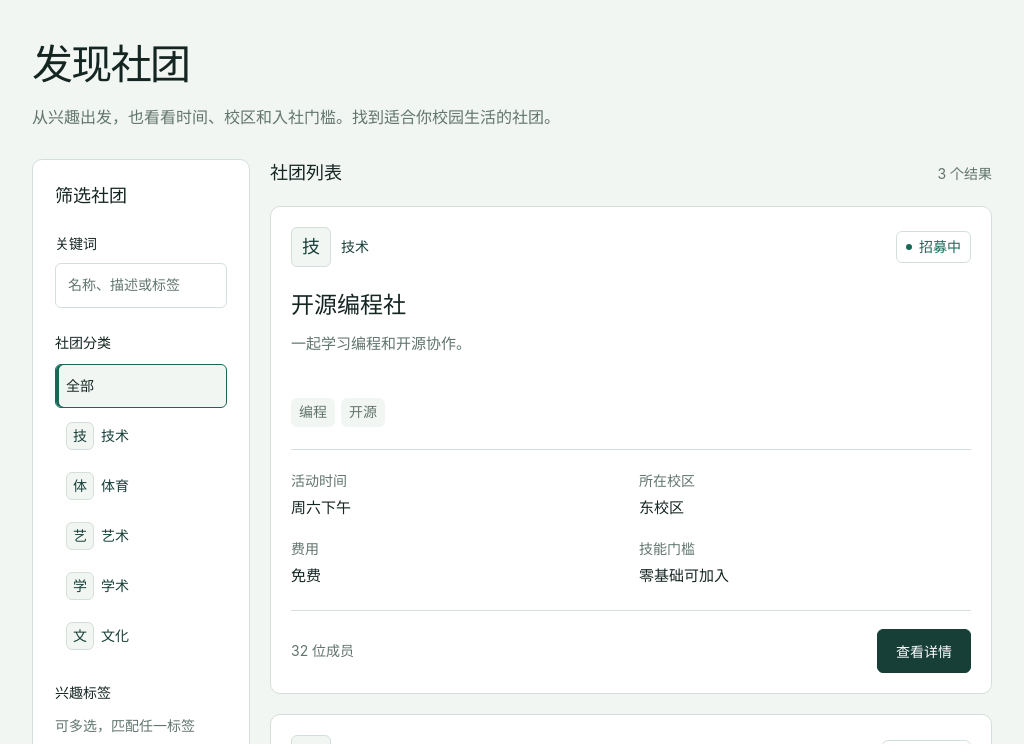
Test: Clubs discovery › labels keyword search and announces the active query and result count
In the search field labelled "关键词": (141, 286) [55,263,227,308], type "编程"
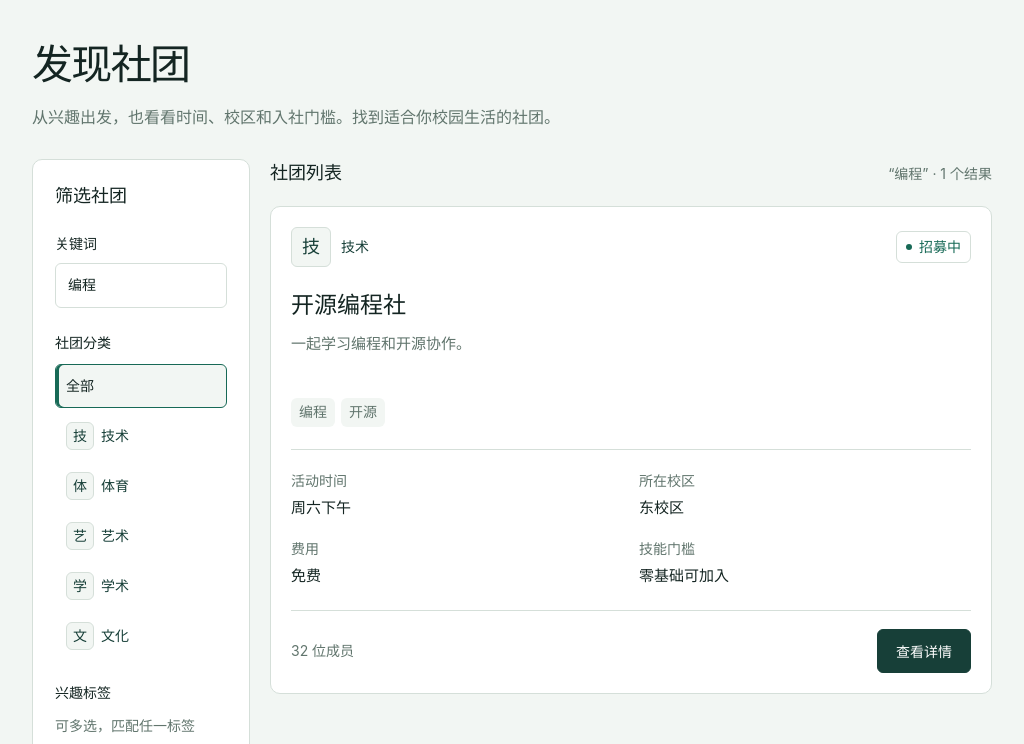
Expected: the text "“编程” · 1 个结果" is shown, [888,163,992,186]
